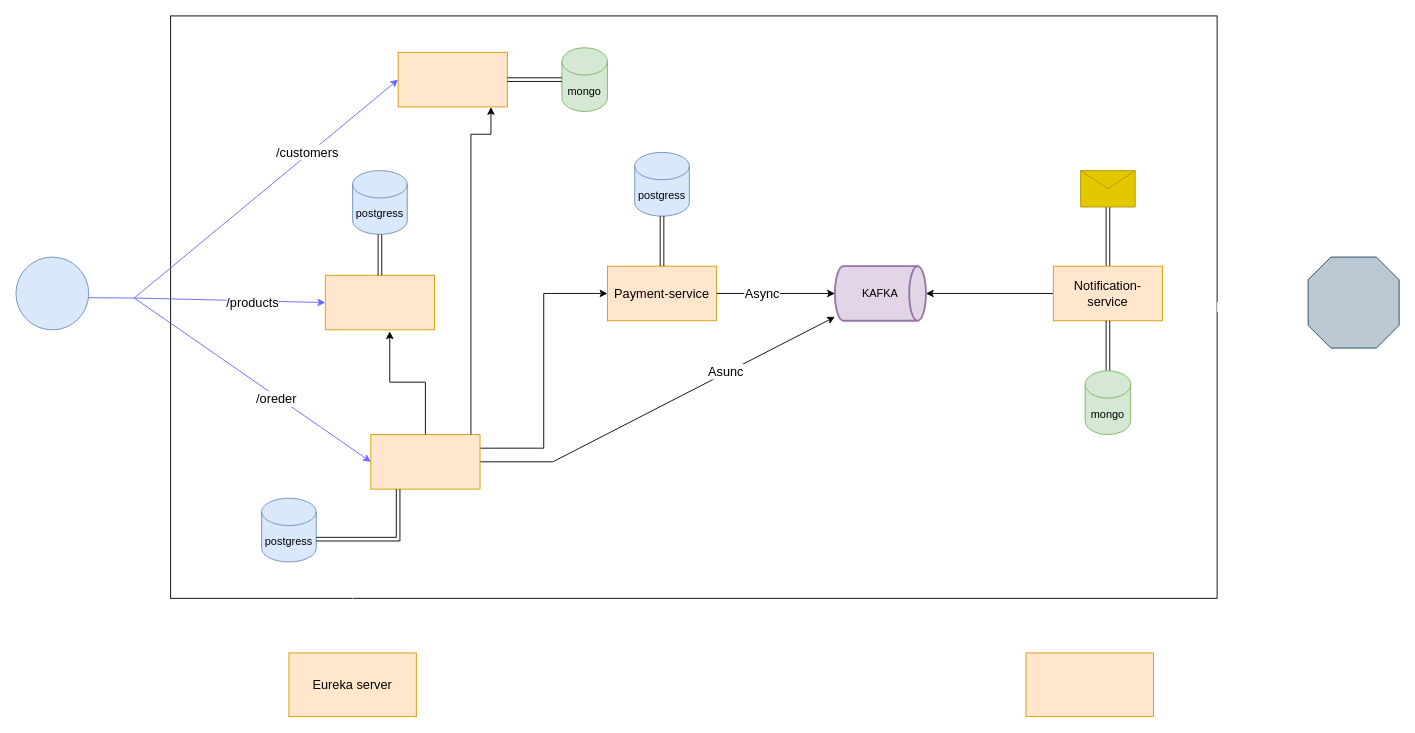
Image size: 1415x733. Some labels were removed from this diagram. Here are the shapes that lost their labels. From the top down, the box of each, then its label:
(397, 51, 507, 107): Customer-service
(15, 256, 89, 330): API GATEWAY
(324, 274, 435, 330): Produc-service
(370, 434, 480, 489): Order-service
(1025, 652, 1153, 717): Config server
